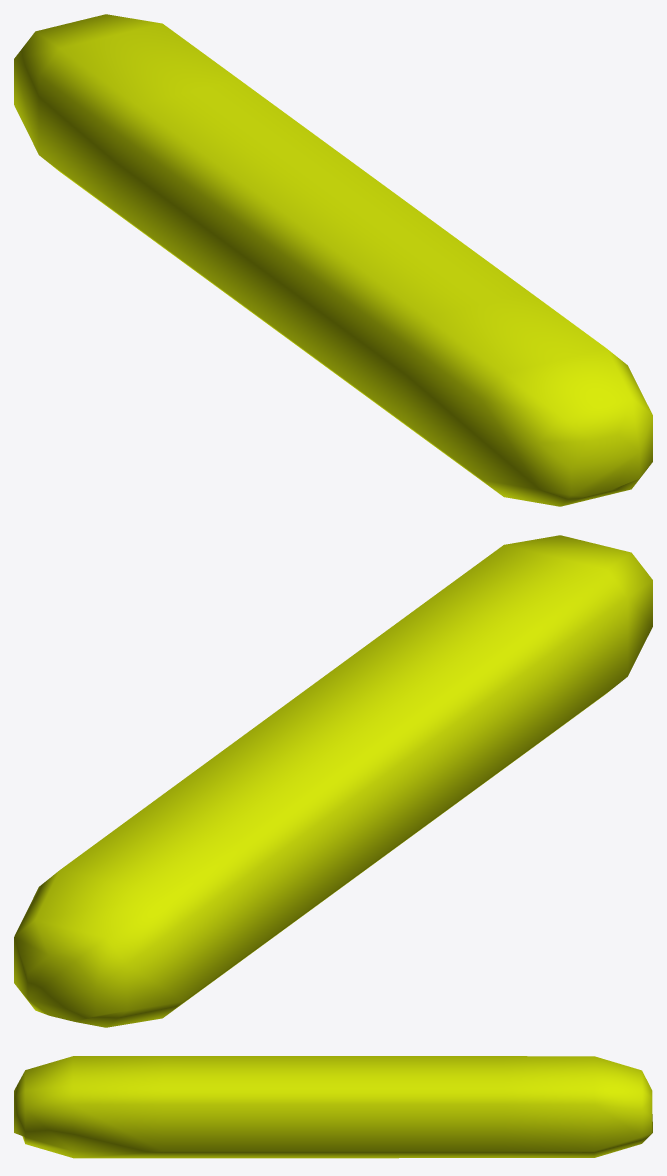
The model's file is BaguetteConBrillo.fbx.
3 renders of one model, top to bottom at view 1: azimuth 30°, elevation 25°; view 2: azimuth 150°, elevation 25°; view 3: azimuth 270°, elevation 25°, orthographic. The views are drawn at different scales.
Visible parts, largest first — view 1: Brillo Baguette; view 2: Brillo Baguette; view 3: Brillo Baguette.
Boxes of the visible parts, bbox=[...] form: Brillo Baguette: bbox=[14, 14, 652, 506]; Brillo Baguette: bbox=[14, 535, 652, 1027]; Brillo Baguette: bbox=[14, 1056, 652, 1158].
Bounding box in the file's own units: 15.18 × 12.37 × 98.61.
